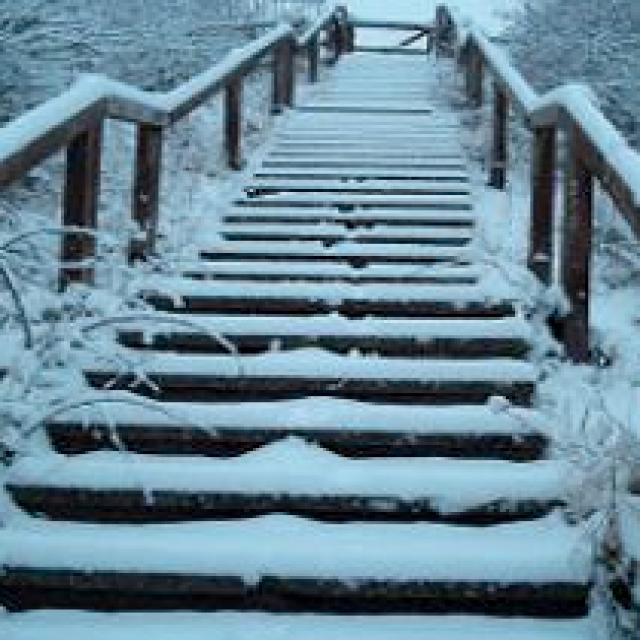upstair: (25, 269, 580, 608)
